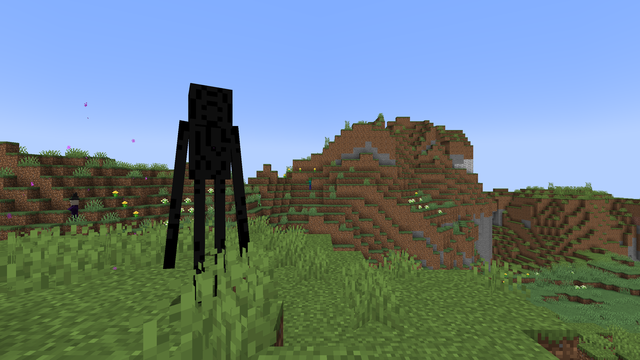creepers: (255, 193, 260, 205)
endermens: (175, 77, 238, 309)
sorcieres: (67, 198, 80, 221)
zombies: (308, 177, 311, 189)
